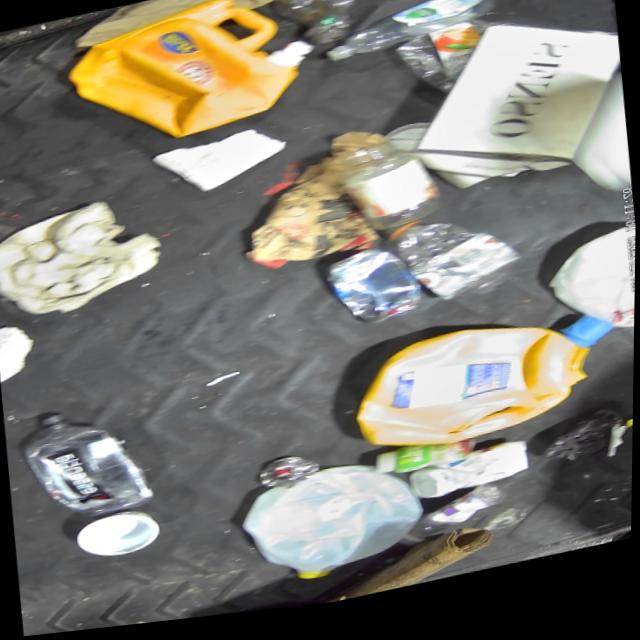can: (334, 246, 427, 340)
non_white_jug: (62, 0, 321, 162), (354, 314, 593, 470), (243, 460, 423, 594)
plastic_bottle: (28, 399, 155, 530), (389, 210, 521, 323), (316, 0, 499, 72), (272, 0, 368, 56)
